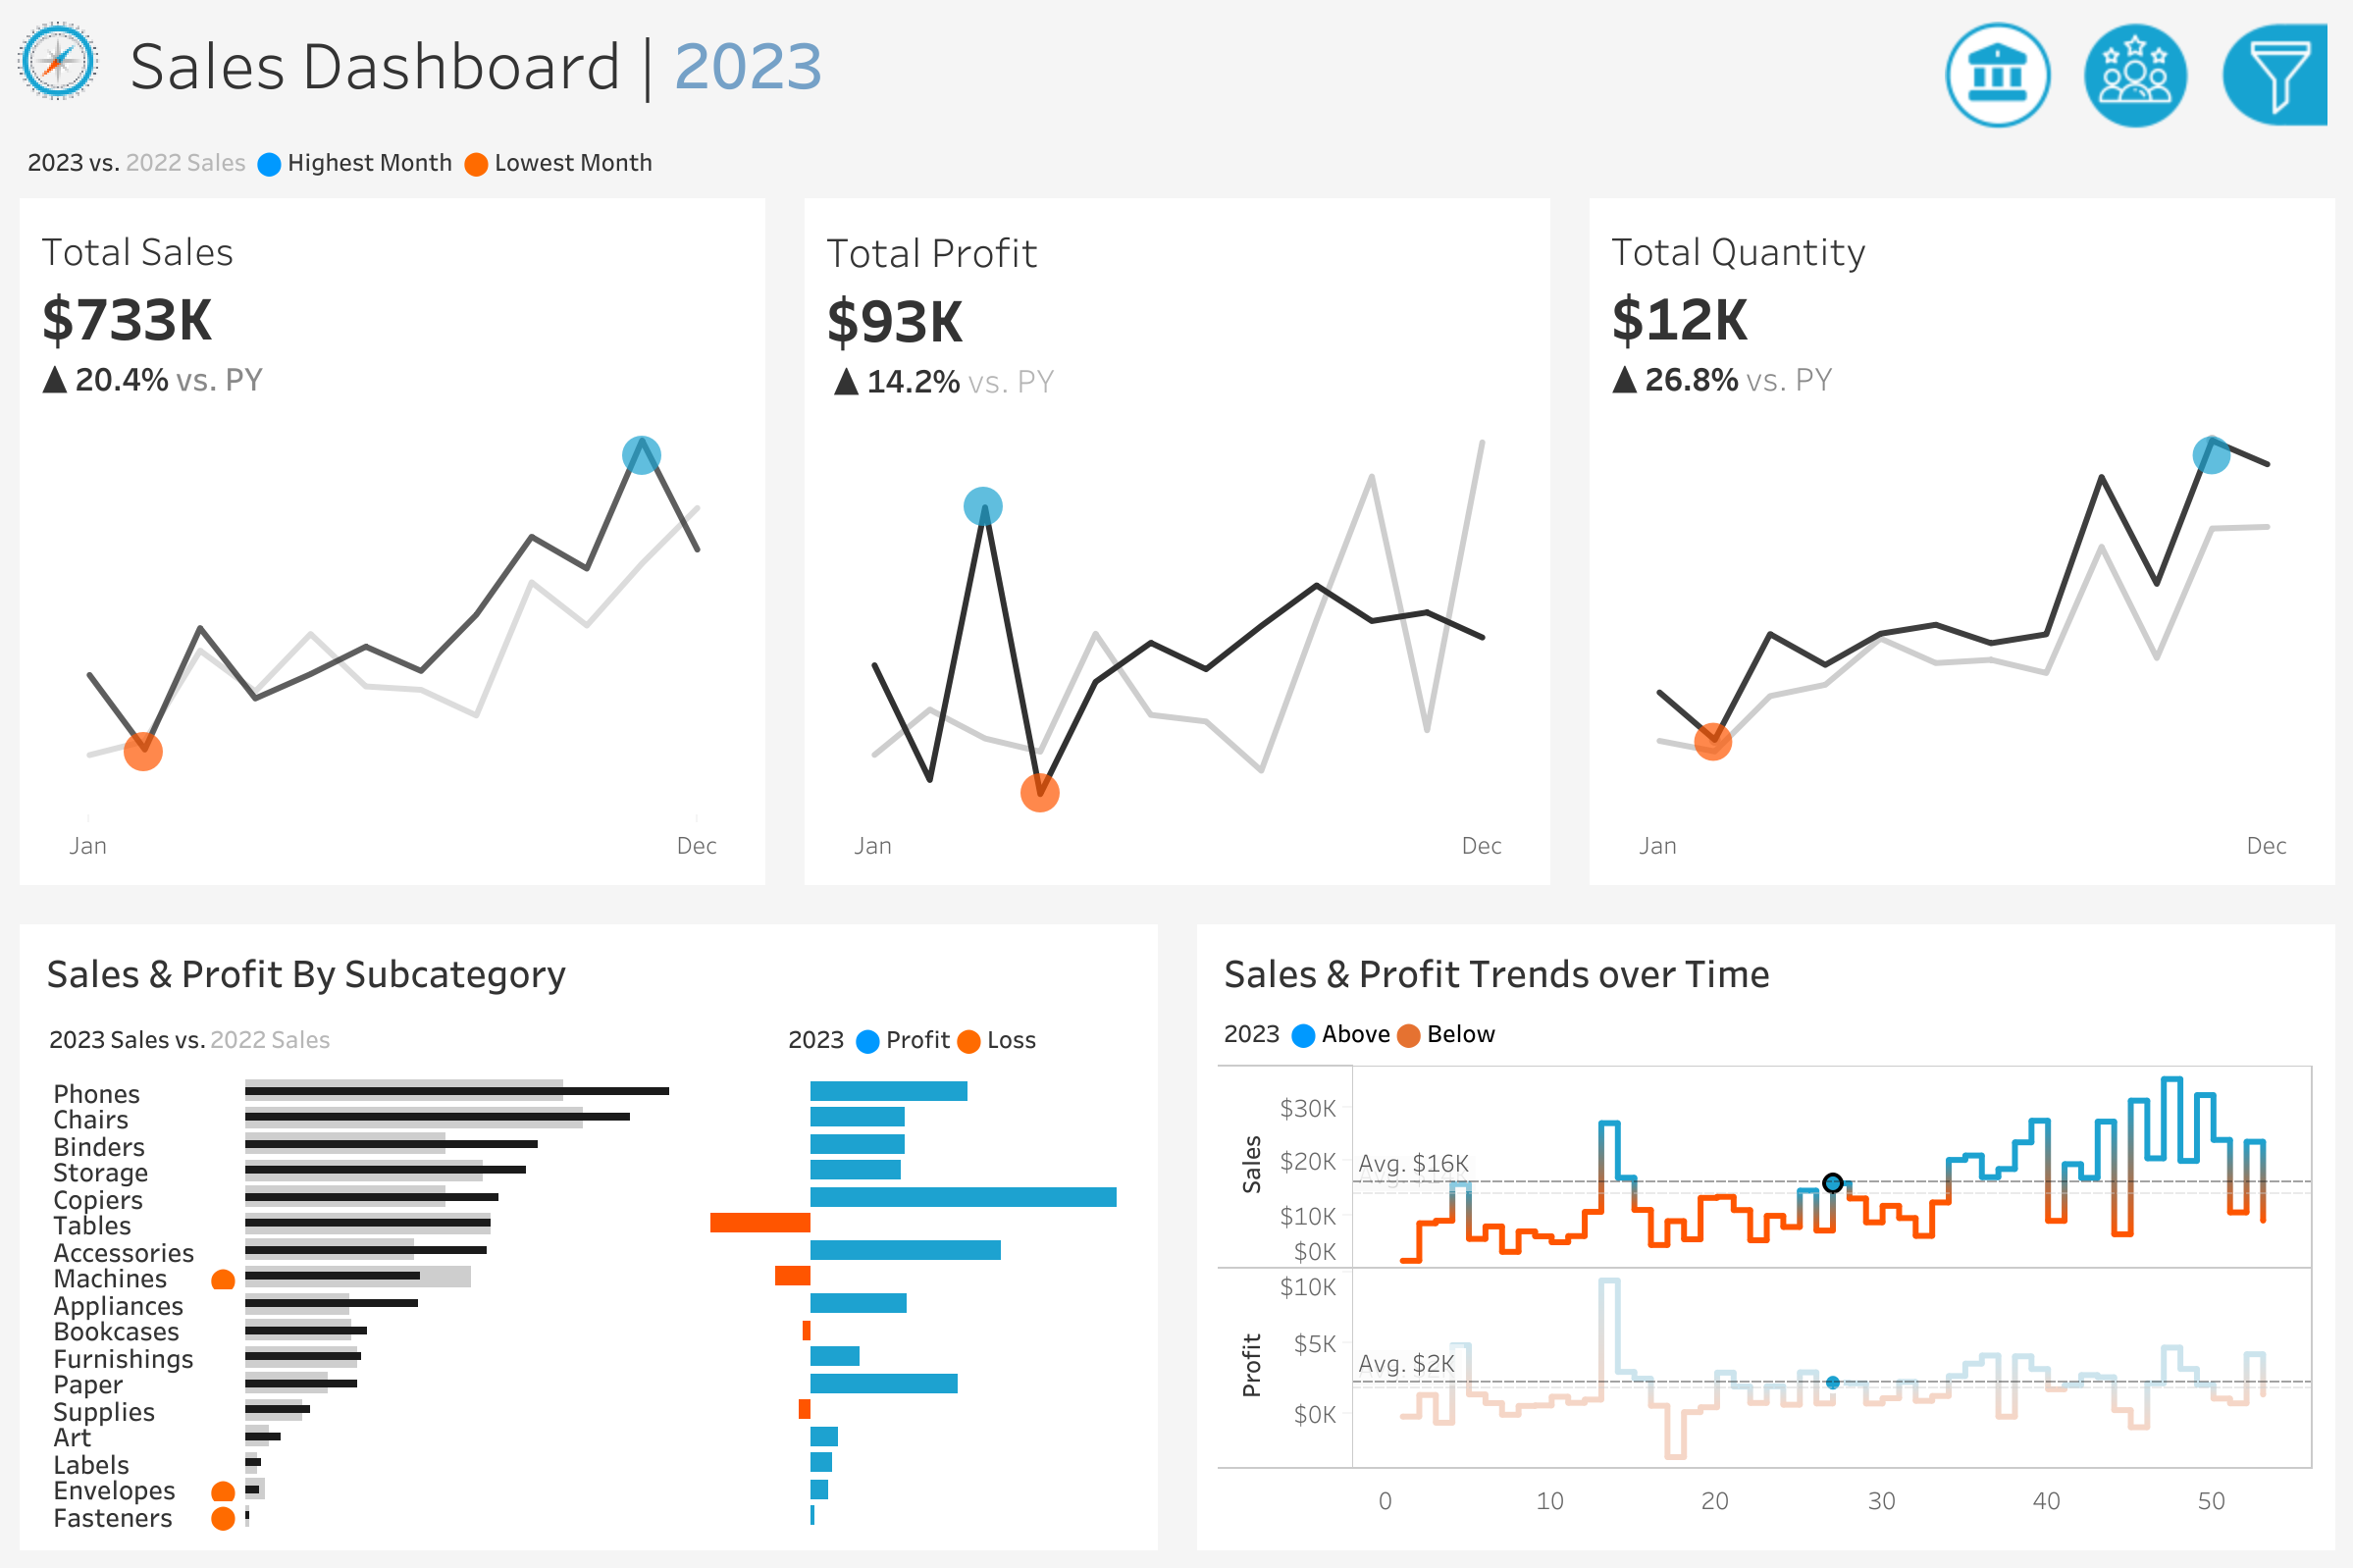

This screenshot's page, from the dashboard's own definition file:
{"tool":"tableau","page":{"name":"Sales Dashboard","canvas":[1200,800],"ordinal":1},"visuals":[{"type":"image","param":"/Users/user/Documents/IT/VIZ/sales-dashboard-project/images/Icon - Logo.png","box":[0,0,59,63]},{"type":"text","box":[59,0,934,63]},{"type":"dashboard-object","box":[983,7,71,63]},{"type":"dashboard-object","box":[1054,7,70,63]},{"type":"dashboard-object","box":[1124,7,70,63]},{"type":"blank","box":[997,11,186,89]},{"type":"worksheet","title":"Legend KPI","mark":"Automatic","box":[0,63,1200,38]},{"type":"text","box":[997,100,186,32]},{"type":"worksheet","title":"KPI Sales","mark":"Line","rows":["Calculation_1170579129090059"],"cols":["Order Date"],"box":[0,101,400,360]},{"type":"worksheet","title":"KPI Profit","mark":"Automatic","rows":["Calculation_1525927859105800"],"cols":["Order Date"],"box":[400,101,400,360]},{"type":"worksheet","title":"Total Quantity","mark":"Automatic","rows":["Calculation_2164194736517121"],"cols":["Order Date"],"box":[800,101,400,360]},{"type":"parameter","param":"[Parameters].[Parameter 1170579116474375]","box":[997,132,186,52]},{"type":"blank","box":[997,184,186,32]},{"type":"text","box":[997,216,186,29]},{"type":"filter","title":"KPI Sales","param":"[federated.0mg5h581glawp71akunoh1monruf].[none:Category:nk]","box":[997,245,186,52]},{"type":"filter","title":"KPI Sales","param":"[federated.0mg5h581glawp71akunoh1monruf].[none:Sub-Category:nk]","box":[997,297,186,56]},{"type":"text","box":[997,353,186,29]},{"type":"filter","title":"KPI Sales","param":"[federated.0mg5h581glawp71akunoh1monruf].[none:Region:nk]","box":[997,382,186,52]},{"type":"filter","title":"KPI Sales","param":"[federated.0mg5h581glawp71akunoh1monruf].[none:State:nk]","box":[997,434,186,52]},{"type":"text","box":[17,478,566,34]},{"type":"text","box":[617,478,566,34]},{"type":"filter","title":"KPI Sales","param":"[federated.0mg5h581glawp71akunoh1monruf].[none:City:nk]","box":[997,486,186,52]},{"type":"worksheet","title":"Legend Subcategory","mark":"Automatic","box":[17,512,378,32]},{"type":"text","box":[395,512,188,32]},{"type":"text","box":[617,512,566,25]},{"type":"worksheet","title":"Weekly Trends","mark":"Automatic","rows":["Calculation_1525927841558530","Calculation_1170579113881604","Calculation_1525927855984645"],"cols":["Order Date"],"box":[617,537,566,246]},{"type":"worksheet","title":"Subcategoty  Comparison","mark":"Bar","rows":["Sub-Category","Calculation_2164194973163527"],"cols":["CY Sales (copy)_1170579115749381","Calculation_1170579113881604","Calculation_1525927855984645"],"box":[17,544,566,239]}]}

Visuals, with their boxes in screenshot pixels (x1, y1, x2, y2), scaled from the page's 1200x800 canvas onto the 2353x1568 screenshot:
image: rect(0, 0, 116, 124)
text: rect(116, 0, 1947, 124)
dashboard-object: rect(1927, 14, 2066, 137)
dashboard-object: rect(2066, 14, 2204, 137)
dashboard-object: rect(2204, 14, 2341, 137)
blank: rect(1955, 22, 2320, 196)
"Legend KPI" worksheet: rect(0, 124, 2352, 198)
text: rect(1955, 196, 2320, 259)
"KPI Sales" worksheet (Line marks): rect(0, 198, 784, 904)
"KPI Profit" worksheet: rect(784, 198, 1569, 904)
"Total Quantity" worksheet: rect(1569, 198, 2352, 904)
parameter: rect(1955, 259, 2320, 361)
blank: rect(1955, 361, 2320, 423)
text: rect(1955, 423, 2320, 480)
"KPI Sales" filter: rect(1955, 480, 2320, 582)
"KPI Sales" filter: rect(1955, 582, 2320, 692)
text: rect(1955, 692, 2320, 749)
"KPI Sales" filter: rect(1955, 749, 2320, 851)
"KPI Sales" filter: rect(1955, 851, 2320, 953)
text: rect(33, 937, 1143, 1004)
text: rect(1210, 937, 2320, 1004)
"KPI Sales" filter: rect(1955, 953, 2320, 1055)
"Legend Subcategory" worksheet: rect(33, 1004, 774, 1067)
text: rect(774, 1004, 1143, 1067)
text: rect(1210, 1004, 2320, 1053)
"Weekly Trends" worksheet: rect(1210, 1053, 2320, 1535)
"Subcategoty  Comparison" worksheet (Bar marks): rect(33, 1067, 1143, 1535)
